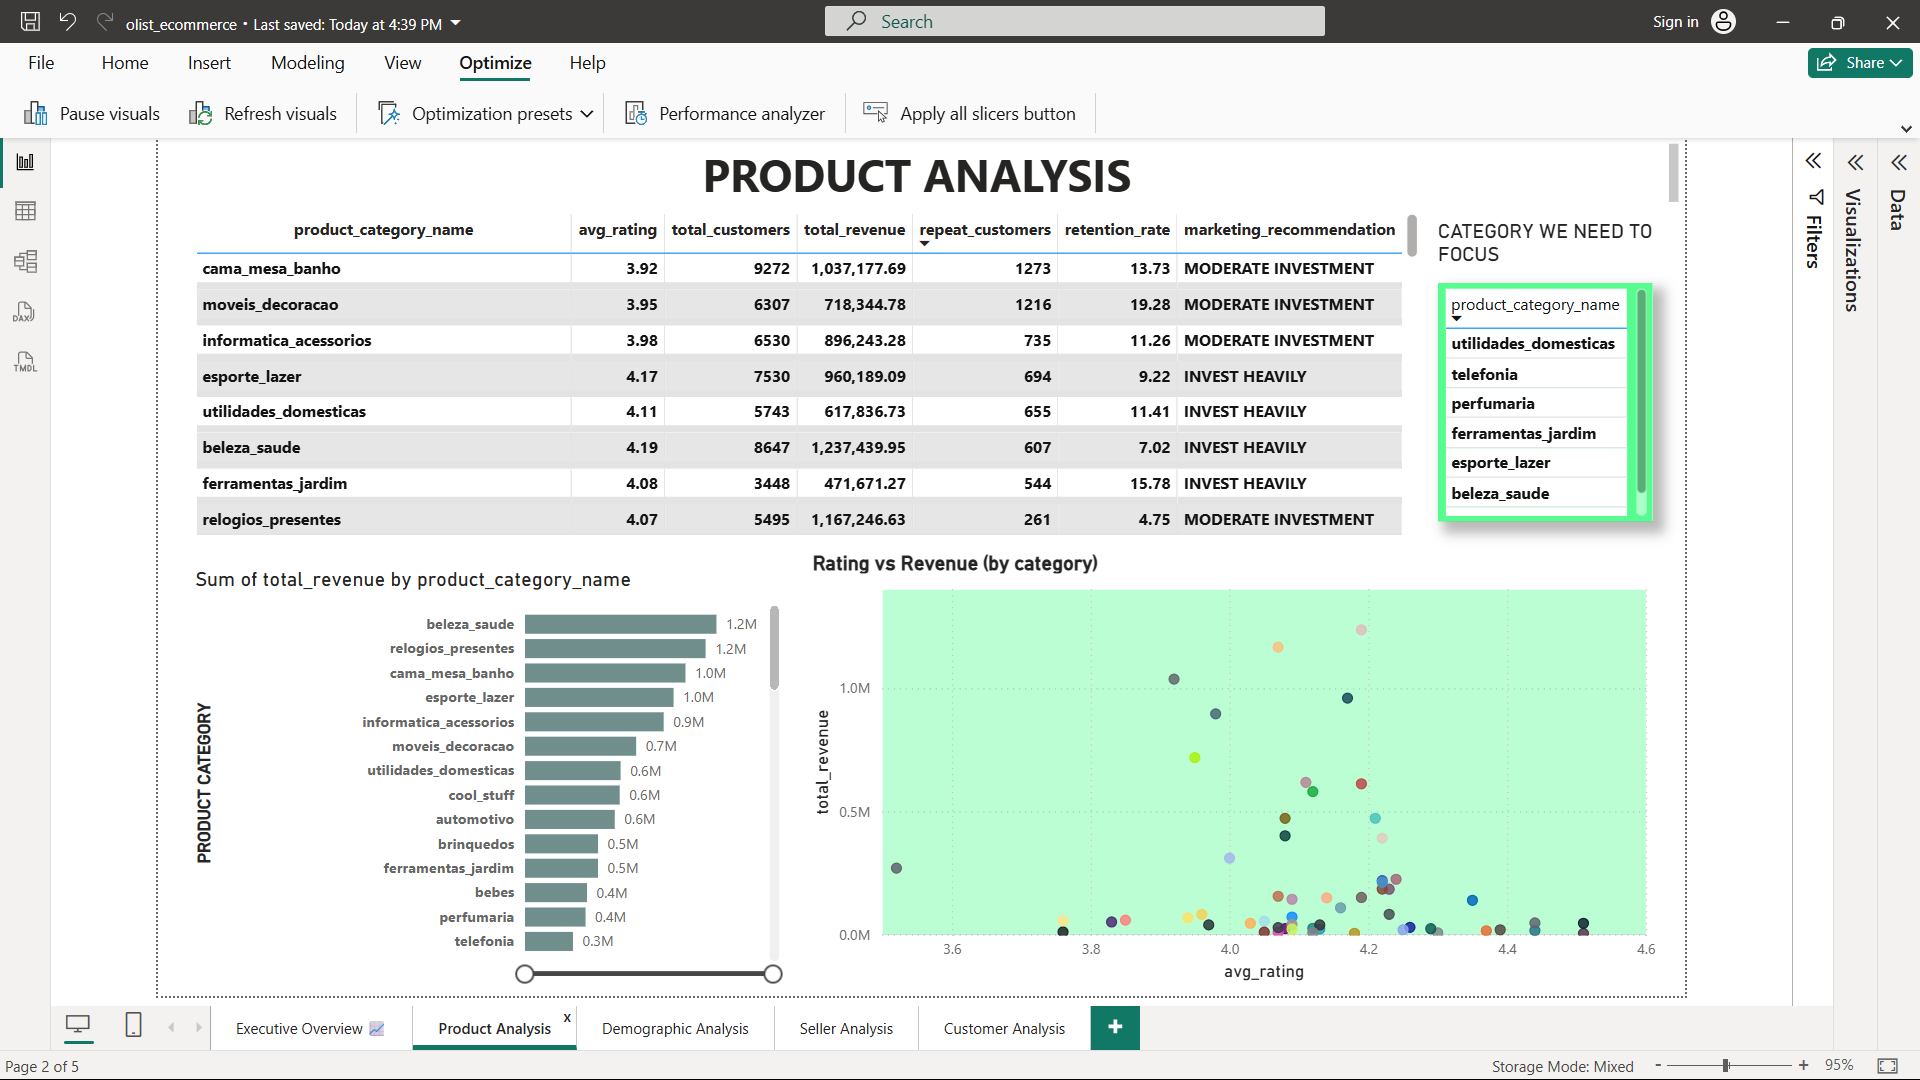

Layout of this report page (visuals, bound fields, positions):
{"tool":"powerbi","page":{"name":"Product Analysis","canvas":[1280,720],"ordinal":1},"visuals":[{"type":"textbox","box":[10,0,280,280],"z":0},{"type":"textbox","box":[0,0,1280.3,59.1],"z":1000},{"type":"clusteredBarChart","fields":{"Category":["public vw_category_full_performance.product_category_name"],"Y":["public vw_category_full_performance.total_revenue"]},"box":[26,360,500,352],"z":2000},{"type":"scatterChart","title":"Rating vs Revenue (by category)","fields":{"X":["public vw_category_full_performance.avg_rating"],"Y":["public vw_category_full_performance.total_revenue"],"Series":["public vw_category_full_performance.product_category_name"]},"box":[544,346,717,366],"z":3000},{"type":"tableEx","fields":{"Values":["public vw_category_full_performance.product_category_name","public vw_category_full_performance.avg_rating","public vw_category_full_performance.total_customers","public vw_category_full_performance.total_revenue","public vw_category_full_performance.repeat_customers","public vw_category_full_performance.retention_rate","public vw_category_full_performance.marketing_recommendation"]},"box":[26.2,58.8,1035,278.8],"z":4000},{"type":"tableEx","fields":{"Values":["public vw_category_full_performance.product_category_name"]},"box":[1073,122,180,200],"z":5000},{"type":"actionButton","title":"CATEGORY WE NEED TO FOCUS","box":[1073,68,200,40],"z":6000}]}

Visuals, with their boxes on the page's 1280x720 design canvas (x1, y1, x2, y2). These are canvas units, not pixel positions in the 1920x1080 screenshot, which may show the page scaled, cropped or inside an application window:
textbox: Rect(10, 0, 290, 280)
textbox: Rect(0, 0, 1280, 59)
clusteredBarChart - public vw_category_full_performance.product_category_name x public vw_category_full_performance.total_revenue: Rect(26, 360, 526, 712)
"Rating vs Revenue (by category)" scatterChart: Rect(544, 346, 1261, 712)
tableEx - public vw_category_full_performance.product_category_name x public vw_category_full_performance.avg_rating: Rect(26, 59, 1061, 338)
tableEx - public vw_category_full_performance.product_category_name: Rect(1073, 122, 1253, 322)
"CATEGORY WE NEED TO FOCUS" actionButton: Rect(1073, 68, 1273, 108)
